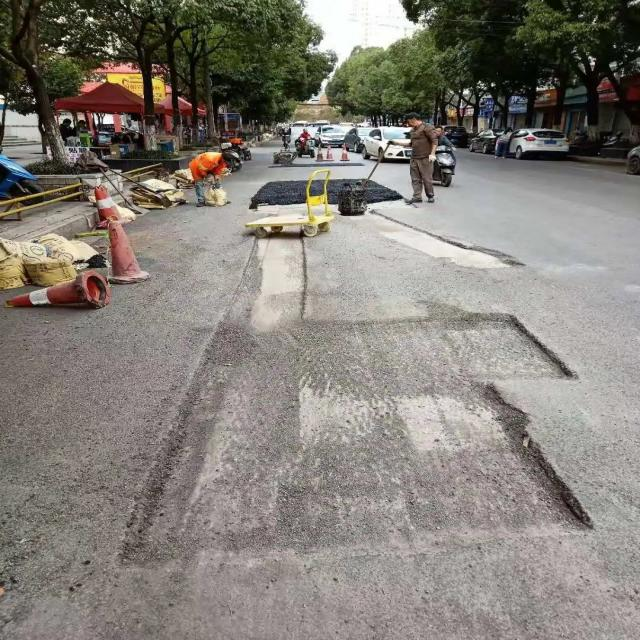Pothole: (140, 226, 611, 558), (382, 214, 531, 274)
